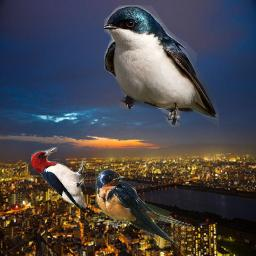Swallow: (104, 5, 219, 127), (95, 168, 193, 243)
Woodpecker: (30, 147, 86, 213)
